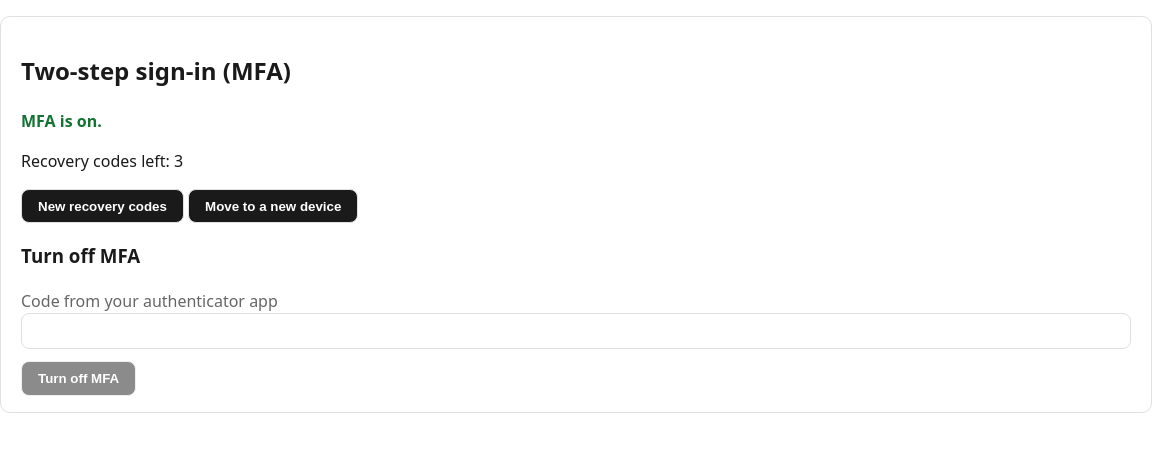
it: MFA on › replaces the recovery codes and shows the new ones once
Expected: the text "Recovery codes left: 3" is shown, [21, 150, 183, 172]
Click the button "New recovery codes": [102, 206] box [21, 189, 184, 223]
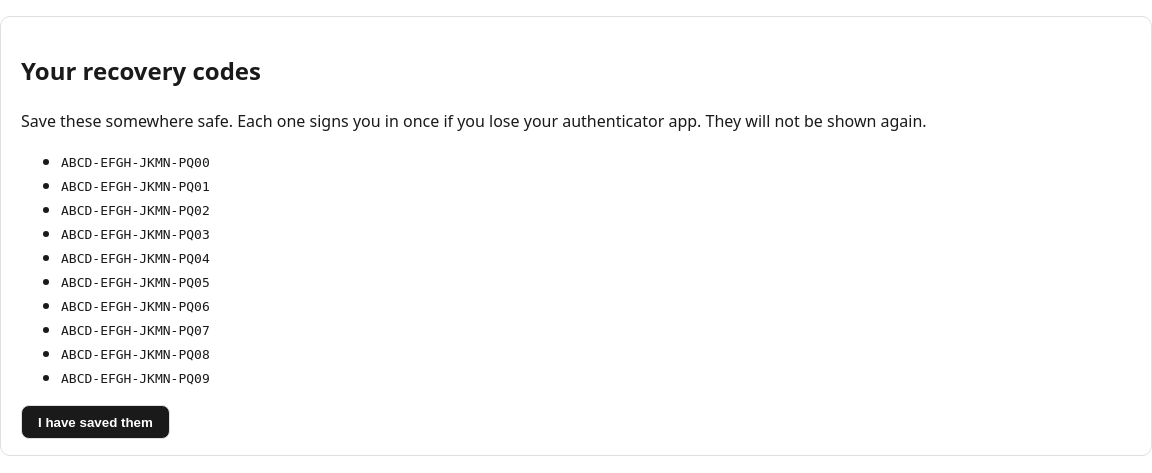
Now the number of list items is 10
